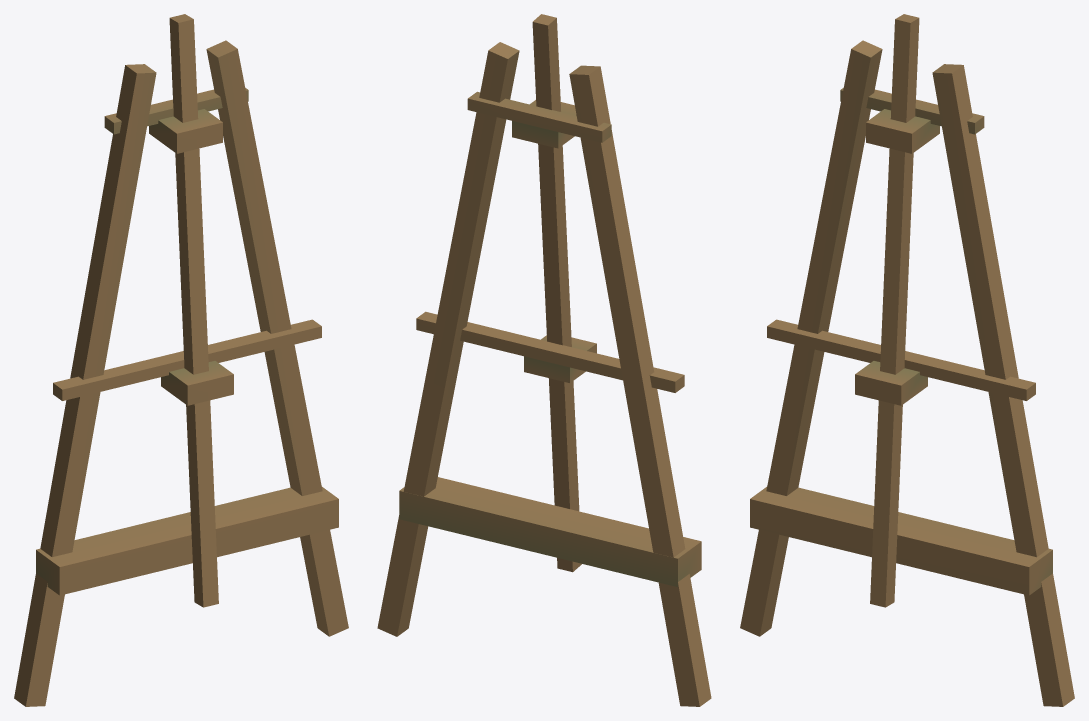
3 renders of one model, left to right at view 1: azimuth 30°, elevation 25°; view 2: azimuth 150°, elevation 25°; view 3: azimuth 330°, elevation 25°, orthographic.
Visible parts, largest first — view 1: side_rail.001, side_rail, lower_crossbar, central_member, middle_crosspiece, middle_collar, upper_collar, upper_crosspiece; view 2: side_rail.001, side_rail, lower_crossbar, central_member, middle_crosspiece, upper_crosspiece, middle_collar, upper_collar; view 3: side_rail, side_rail.001, lower_crossbar, central_member, middle_crosspiece, middle_collar, upper_collar, upper_crosspiece.
Boxes of the visible parts, x1,y1,x2,y2 form: side_rail.001: (14, 64, 156, 706); side_rail: (206, 40, 348, 636); lower_crossbar: (36, 487, 338, 595); central_member: (169, 14, 218, 607); middle_crosspiece: (53, 319, 321, 400); middle_collar: (161, 361, 233, 405); upper_collar: (149, 109, 222, 153); upper_crosspiece: (104, 88, 248, 134); side_rail.001: (569, 65, 711, 706); side_rail: (377, 42, 519, 636); lower_crossbar: (399, 477, 701, 586); central_member: (532, 14, 581, 572); middle_crosspiece: (416, 311, 684, 392); upper_crosspiece: (467, 91, 611, 142); middle_collar: (524, 335, 596, 382); upper_collar: (512, 100, 576, 148); side_rail: (932, 64, 1074, 706); side_rail.001: (740, 40, 882, 636); lower_crossbar: (750, 487, 1052, 595); central_member: (870, 14, 919, 607); middle_crosspiece: (767, 319, 1035, 400); middle_collar: (855, 361, 927, 405); upper_collar: (866, 109, 939, 153); upper_crosspiece: (840, 88, 984, 134).
Size of the model in its own units: 0.9373 by 1.8 by 0.1968.
